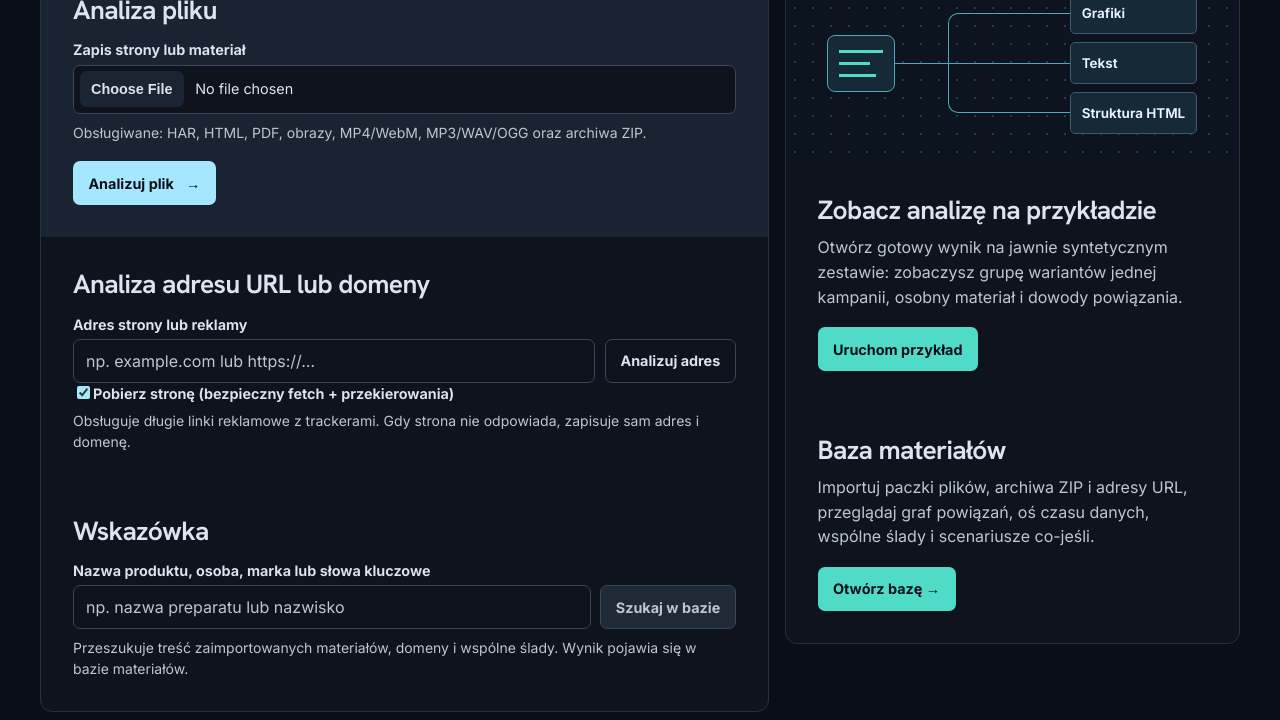
Test case: ekran startowy › brak połączenia przy starcie: sygnalizuje utratę połączenia
(page scrolled)
Type "https://x.invalid/a" into the field labelled "Adres strony lub reklamy" at (334, 361), box [73, 339, 596, 383]
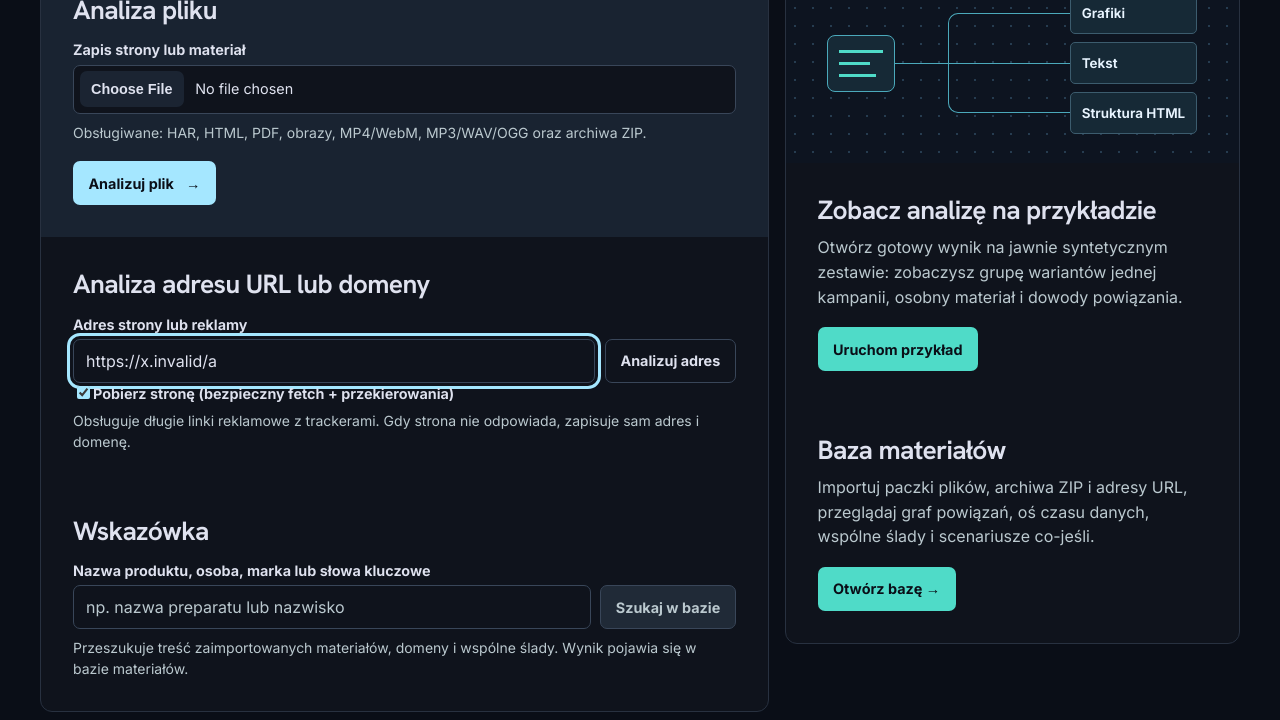
Click the button "Analizuj adres" at (670, 361), box [605, 339, 736, 383]
(page scrolled)
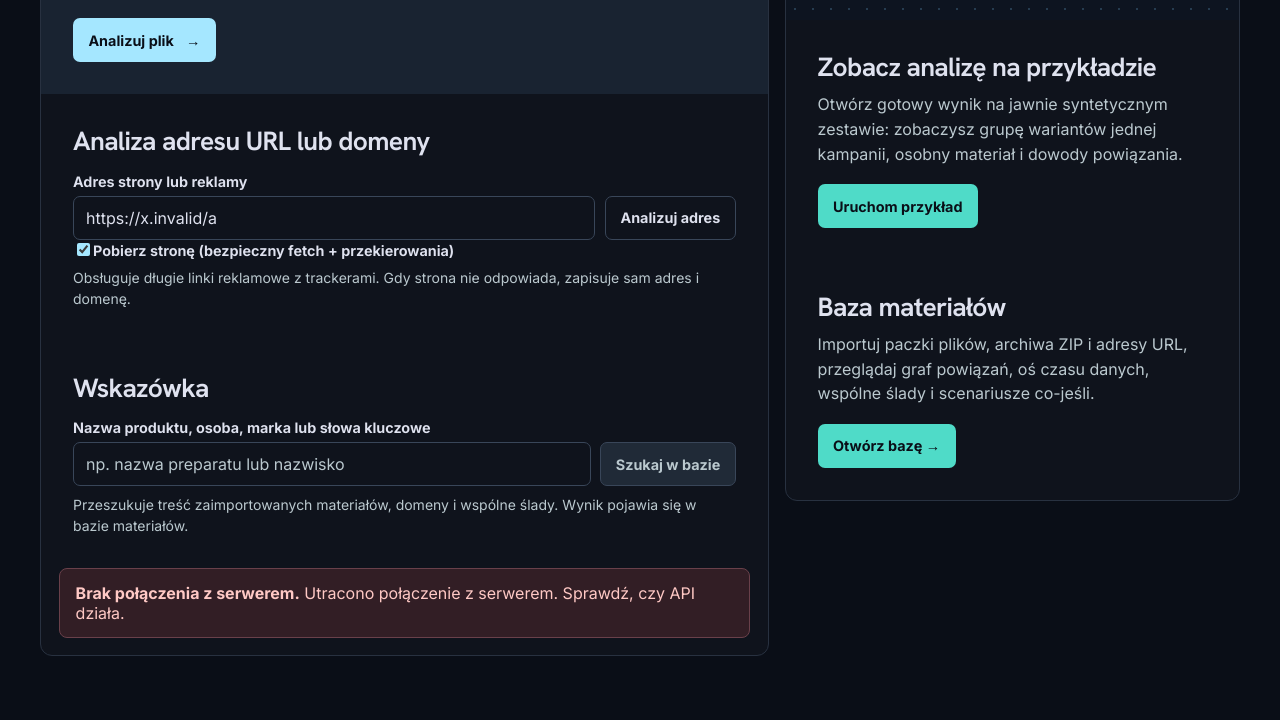
Result: the message shows "Brak połączenia z serwerem" at [76, 583, 300, 603]
